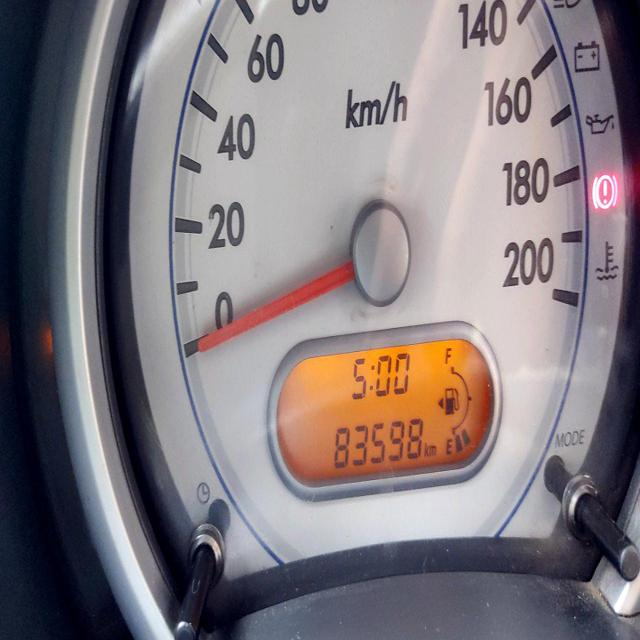odometer: (329, 413, 430, 477)
